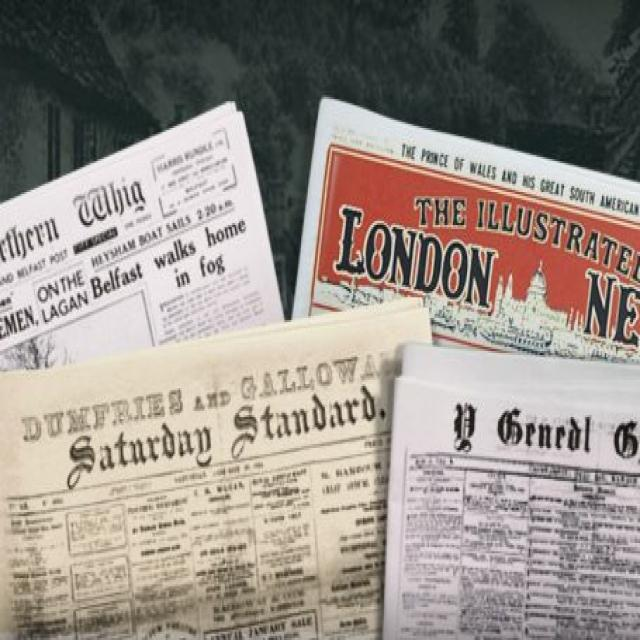newspaper: (0, 303, 439, 640), (289, 86, 640, 355), (380, 346, 640, 639), (0, 101, 291, 359)
